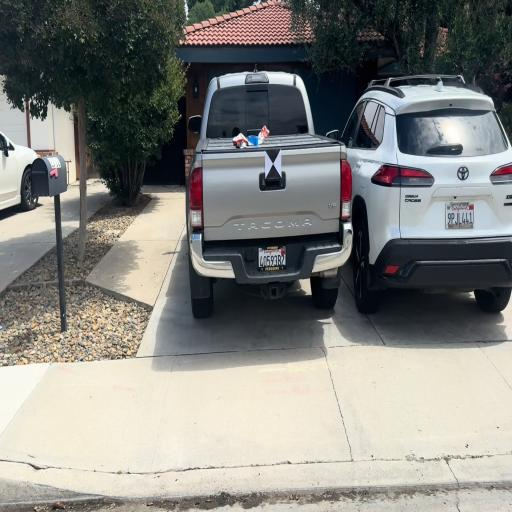target: (264, 150, 282, 178)
